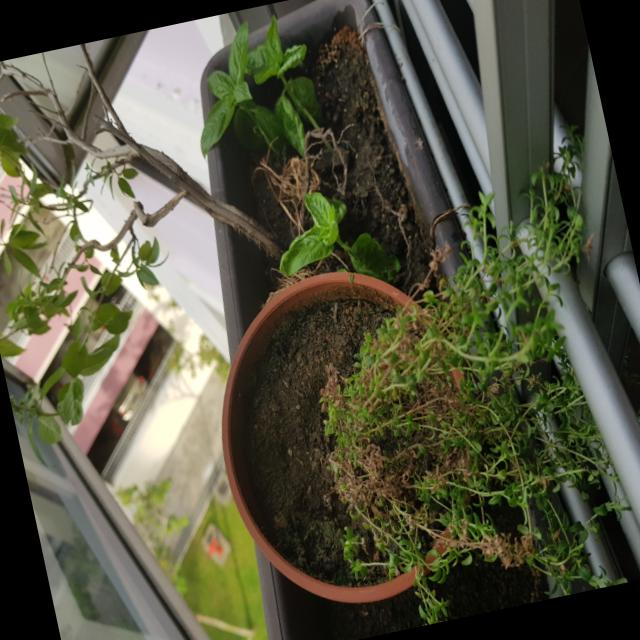Sweet Basil: (175, 3, 333, 170), (260, 163, 404, 301)
Thyme: (256, 219, 640, 635)
